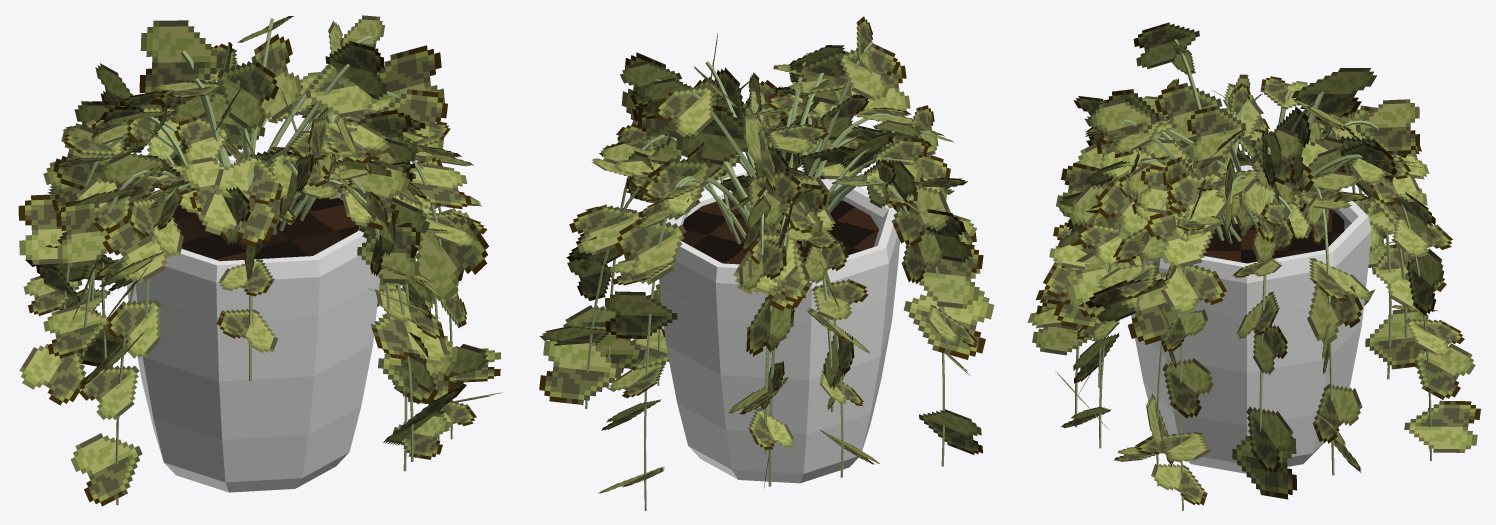
The model's file is plant_pothos.gltf.
3 renders of one model, left to right at view 1: azimuth 30°, elevation 25°; view 2: azimuth 150°, elevation 25°; view 3: azimuth 270°, elevation 25°, orthographic. The views are drawn at different scales.
Parts seen in each view (by area): view 1: Pot, Soil, PothosLeaf_011, PothosLeaf_068, PothosLeaf_162, PothosLeaf_005, PothosLeaf_077, PothosLeaf_115, PothosLeaf_032, PothosLeaf_084, PothosLeaf_029, PothosLeaf_079 (+60 smaller); view 2: Pot, Soil, PothosLeaf_123, PothosLeaf_175, PothosLeaf_160, PothosLeaf_177, PothosLeaf_078, PothosLeaf_007, PothosLeaf_008, PothosLeaf_119, PothosLeaf_004, PothosLeaf_076 (+62 smaller); view 3: Pot, PothosLeaf_180, Soil, PothosLeaf_044, PothosLeaf_011, PothosLeaf_014, PothosLeaf_167, PothosLeaf_179, PothosLeaf_130, PothosLeaf_166, PothosLeaf_137, PothosLeaf_138 (+66 smaller).
Part boxes in pixels (<box>): Pot: <box>126,160,380,492</box>; Soil: <box>173,197,359,261</box>; PothosLeaf_011: <box>139,20,222,104</box>; PothosLeaf_068: <box>415,216,488,301</box>; PothosLeaf_162: <box>70,433,142,506</box>; PothosLeaf_005: <box>217,59,278,130</box>; PothosLeaf_077: <box>56,200,107,267</box>; PothosLeaf_115: <box>19,344,86,405</box>; PothosLeaf_032: <box>198,189,279,246</box>; PothosLeaf_084: <box>18,194,66,264</box>; PothosLeaf_029: <box>376,45,444,110</box>; PothosLeaf_079: <box>43,305,109,358</box>; Pot: <box>659,171,899,483</box>; Soil: <box>681,198,878,264</box>; PothosLeaf_123: <box>539,340,621,404</box>; PothosLeaf_175: <box>615,217,686,284</box>; PothosLeaf_160: <box>903,290,994,359</box>; PothosLeaf_177: <box>605,291,677,338</box>; PothosLeaf_078: <box>919,244,983,308</box>; PothosLeaf_007: <box>676,105,748,164</box>; PothosLeaf_008: <box>655,85,714,137</box>; PothosLeaf_119: <box>569,204,642,255</box>; PothosLeaf_004: <box>838,43,899,100</box>; PothosLeaf_076: <box>892,183,950,246</box>; Pot: <box>1131,165,1371,473</box>; PothosLeaf_180: <box>1404,400,1480,452</box>; Soil: <box>1203,203,1344,263</box>; PothosLeaf_044: <box>1356,99,1419,154</box>; PothosLeaf_011: <box>1291,68,1376,119</box>; PothosLeaf_014: <box>1187,105,1245,164</box>; PothosLeaf_167: <box>1161,265,1226,314</box>; PothosLeaf_179: <box>1412,343,1475,399</box>; PothosLeaf_130: <box>1365,308,1428,369</box>; PothosLeaf_166: <box>1145,210,1215,268</box>; PothosLeaf_137: <box>1246,406,1294,473</box>; PothosLeaf_138: <box>1232,434,1296,499</box>.
Bounding box in the file's own units: 2.82 × 2.81 × 2.87.
Materials: 4 (2 with a texture image).
